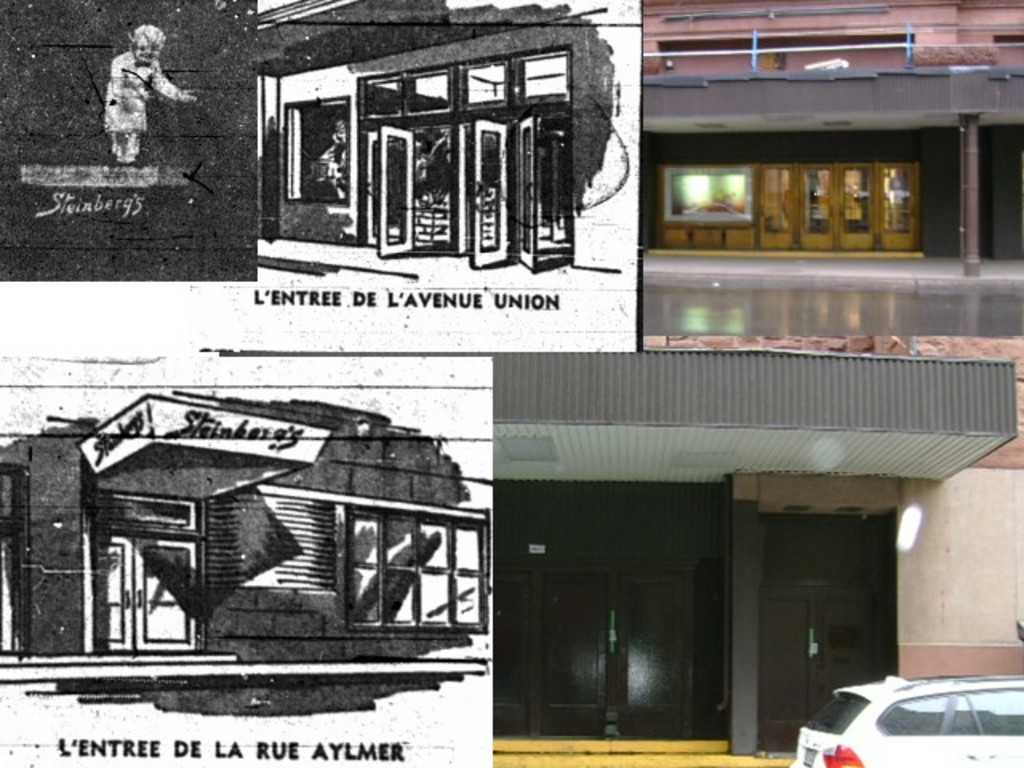Car: (784, 670, 1024, 768)
